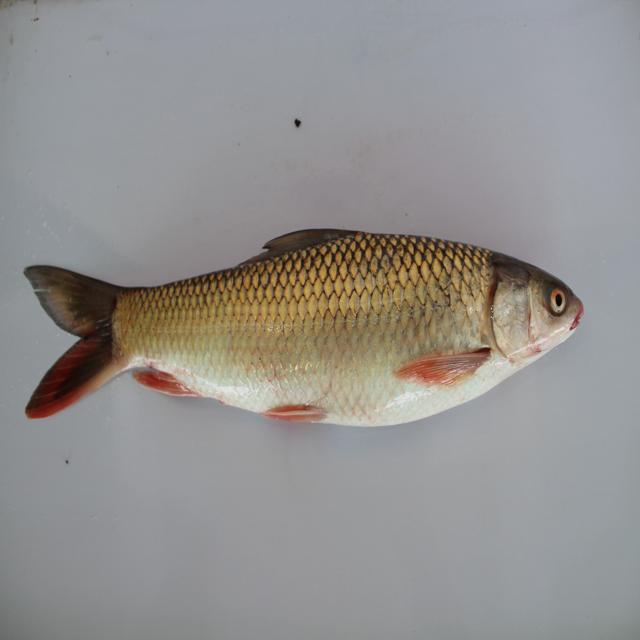Mori: (17, 216, 596, 467)
